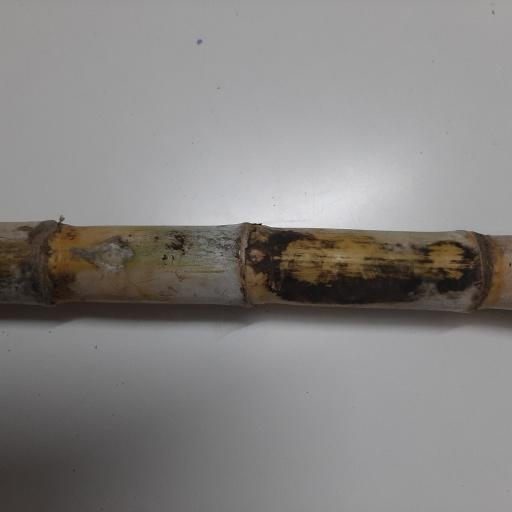Bud: (243, 244, 266, 267)
